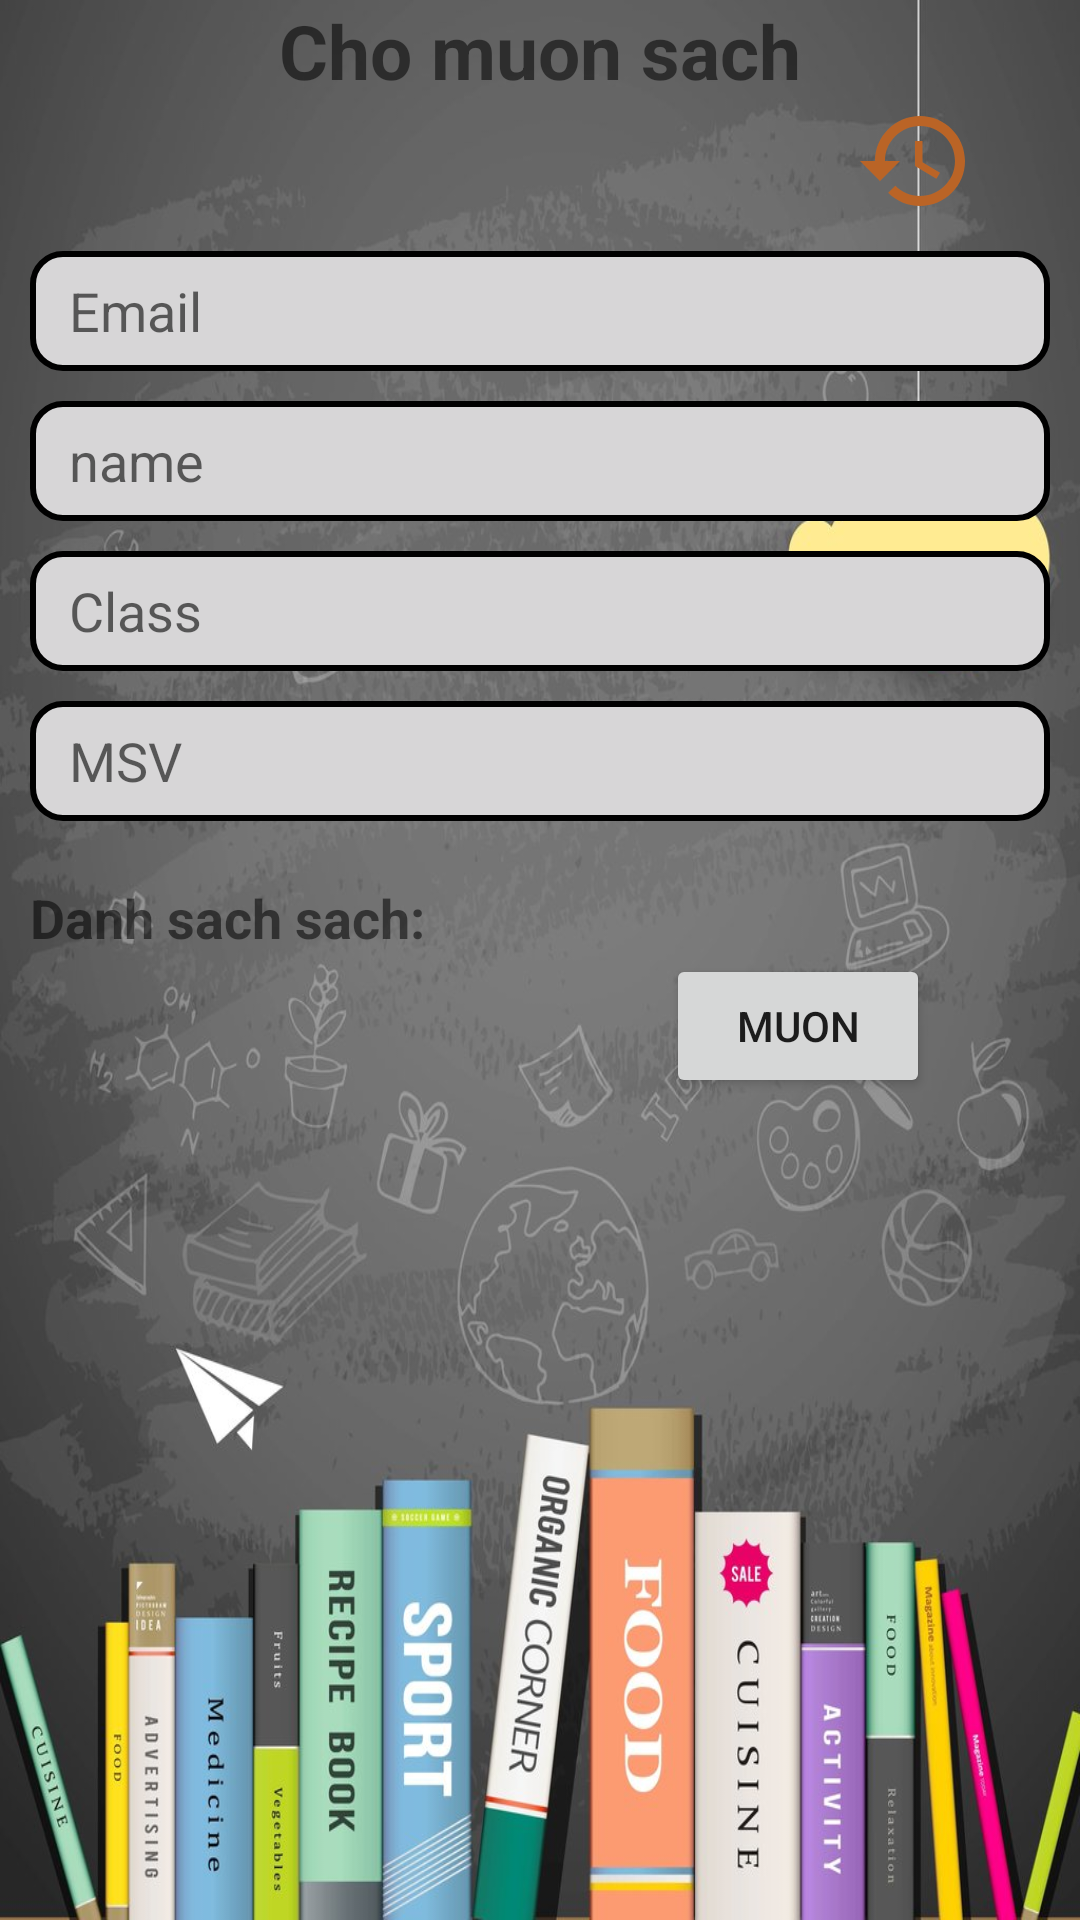

Named icons in this screenshot (1080px×1920px) and their bounding boxes, [x1=x1, y1=y1, x2=x2, y2=y2]:
history: [x1=840, y1=101, x2=977, y2=221]
